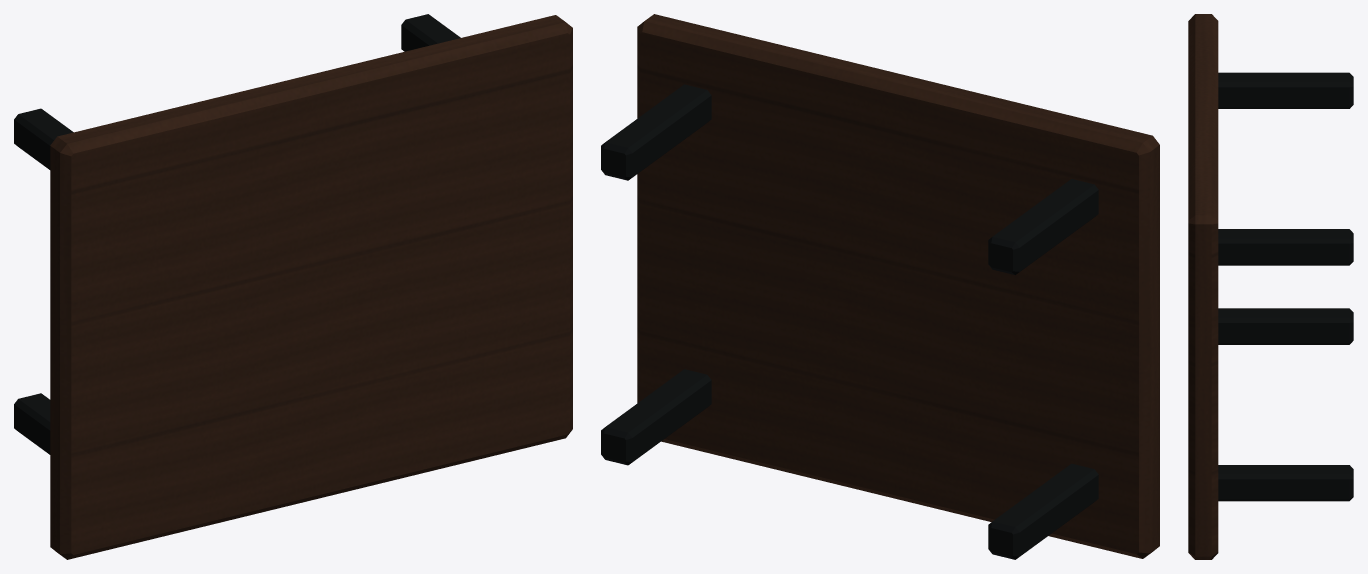
File: coffee_table.obj
3 renders of one model, left to right at view 1: azimuth 30°, elevation 25°; view 2: azimuth 150°, elevation 25°; view 3: azimuth 270°, elevation 25°, orthographic. The views are drawn at different scales.
Visible parts, largest first — view 1: coffee_table_walnut, coffee_table_frame; view 2: coffee_table_walnut, coffee_table_frame; view 3: coffee_table_frame, coffee_table_walnut.
Part boxes in pixels (x1,y1,x2,y2): coffee_table_walnut: (50,15,572,559); coffee_table_frame: (14,14,460,454); coffee_table_walnut: (637,14,1159,558); coffee_table_frame: (601,84,1098,559); coffee_table_frame: (1218,72,1353,501); coffee_table_walnut: (1188,14,1218,559).
Bounding box in the file's own units: 49 × 38 × 16.5.
Materials: 2 (2 with a texture image).
